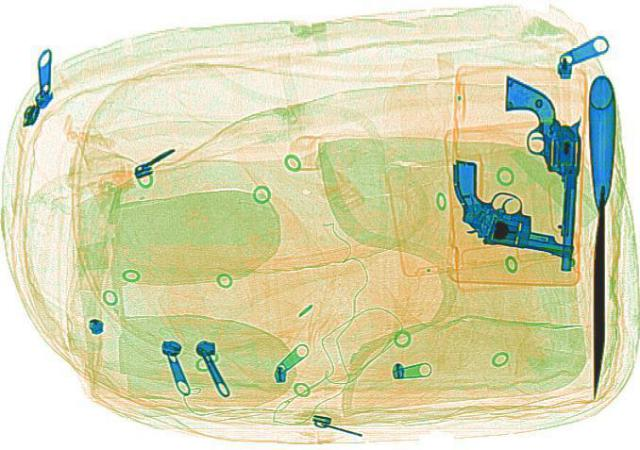Gun: (416, 156, 606, 260), (500, 74, 582, 269)
Knife: (577, 73, 617, 395)
